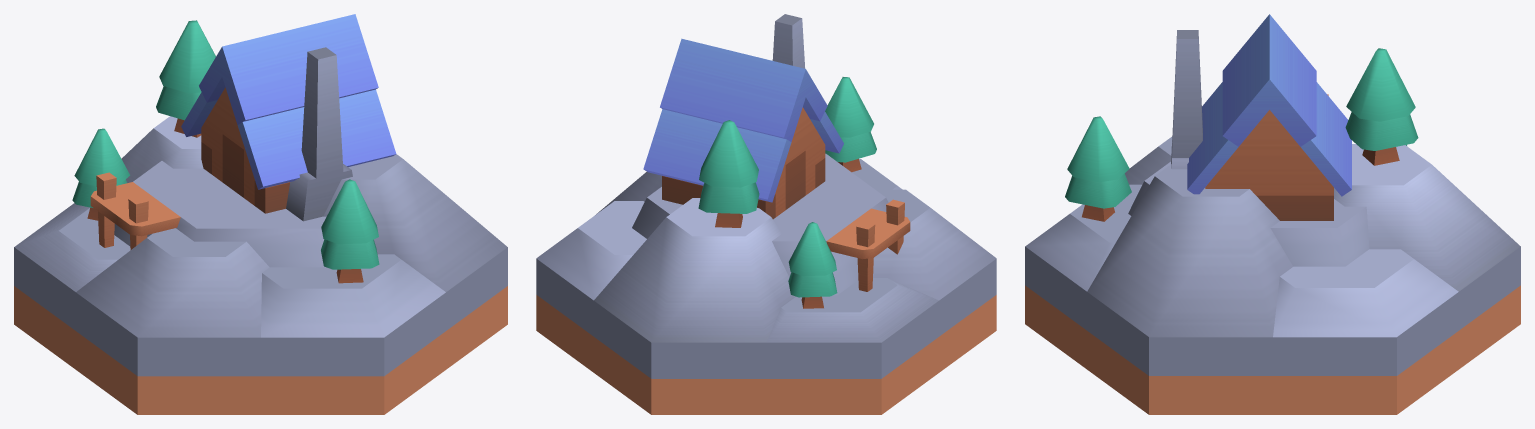
Rendered from building-cabin.fbx.
The picture shows the model from 3 angles, left to right: view 1: azimuth 30°, elevation 25°; view 2: azimuth 150°, elevation 25°; view 3: azimuth 270°, elevation 25°; orthographic projection. The views are drawn at different scales.
Parts seen in each view (by area): view 1: building_cabin; view 2: building_cabin; view 3: building_cabin.
Boxes of the visible parts, x1=… form: building_cabin: x1=14, y1=14, x2=507, y2=414; building_cabin: x1=536, y1=14, x2=996, y2=414; building_cabin: x1=1025, y1=14, x2=1520, y2=414.
Bounding box in the file's own units: 100 × 76.84 × 115.
1 material, 1 textured.
